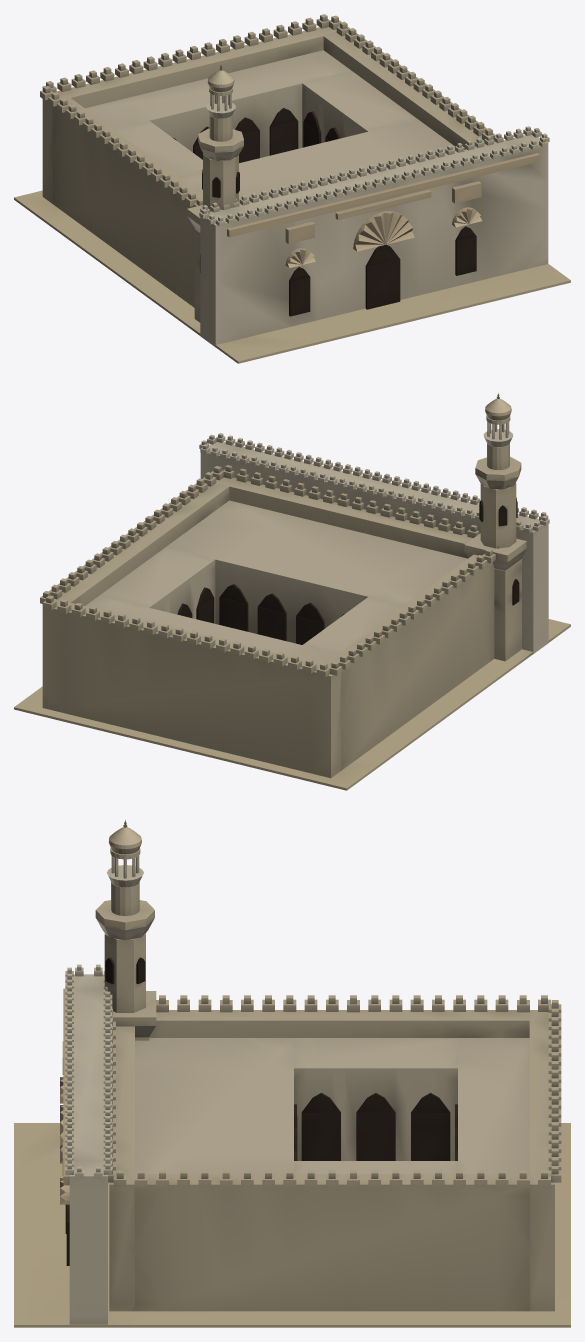
The model's file is al-aqmar.glb.
3 renders of one model, top to bottom at view 1: azimuth 30°, elevation 25°; view 2: azimuth 150°, elevation 25°; view 3: azimuth 270°, elevation 25°, orthographic. The views are drawn at different scales.
Parts seen in each view (by area): view 1: p1_walls, p2_facade, p0_ground, p3_minaret; view 2: p1_walls, p2_facade, p3_minaret, p0_ground; view 3: p1_walls, p0_ground, p2_facade, p3_minaret.
Part boxes in pixels (x1=…): p1_walls: x1=40, y1=14, x2=496, y2=307; p2_facade: x1=199, y1=126, x2=549, y2=347; p0_ground: x1=14, y1=190, x2=570, y2=363; p3_minaret: x1=187, y1=64, x2=243, y2=322; p1_walls: x1=40, y1=465, x2=499, y2=778; p2_facade: x1=199, y1=433, x2=549, y2=653; p3_minaret: x1=464, y1=393, x2=526, y2=661; p0_ground: x1=14, y1=619, x2=570, y2=790; p1_walls: x1=108, y1=995, x2=561, y2=1311; p0_ground: x1=14, y1=1123, x2=570, y2=1327; p2_facade: x1=60, y1=964, x2=112, y2=1324; p3_minaret: x1=95, y1=820, x2=156, y2=1040.
Bounding box in the file's own units: 30.55 × 22.45 × 35.
